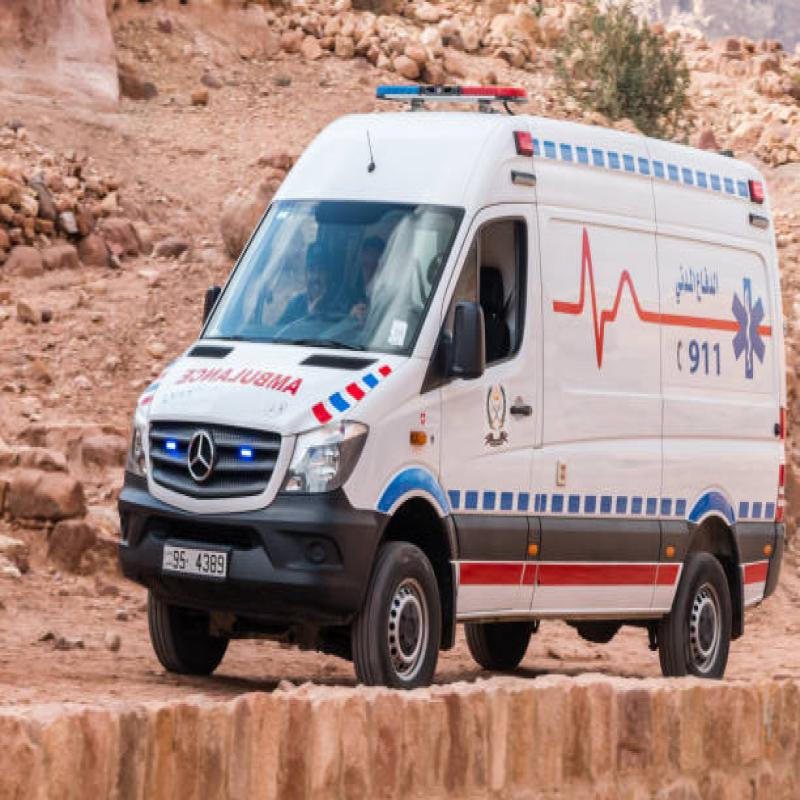AmbulanceSiren: (366, 63, 532, 112)
ambulance: (117, 40, 784, 704)
